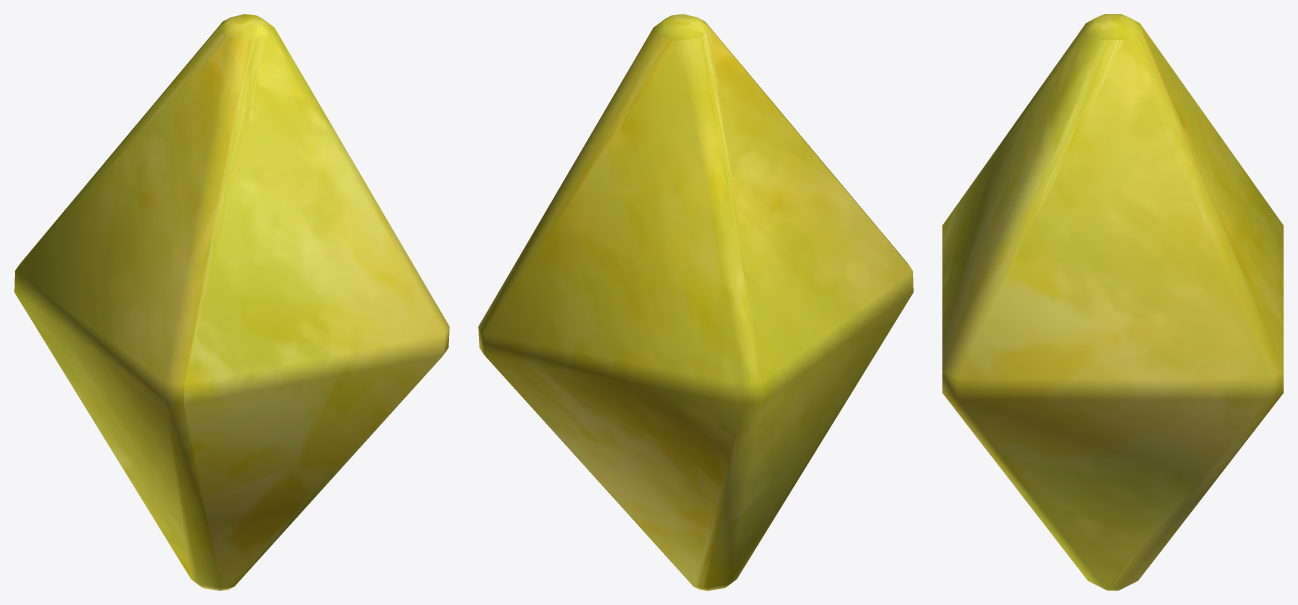
File: mese.obj
3 renders of one model, left to right at view 1: azimuth 30°, elevation 25°; view 2: azimuth 150°, elevation 25°; view 3: azimuth 270°, elevation 25°, orthographic. The views are drawn at different scales.
Visible parts, largest first — view 1: Cube.001_Cube.000; view 2: Cube.001_Cube.000; view 3: Cube.001_Cube.000.
Boxes of the visible parts, x1=… form: Cube.001_Cube.000: x1=14, y1=14, x2=449, y2=590; Cube.001_Cube.000: x1=478, y1=14, x2=913, y2=590; Cube.001_Cube.000: x1=942, y1=14, x2=1283, y2=590.
Size of the model in its own units: 15.98 by 29.79 by 15.96.
Materials: 2 (2 with a texture image).
